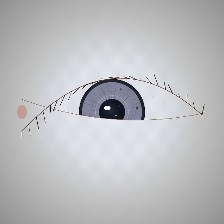pinguecula_lesion: (141, 101, 191, 141)
